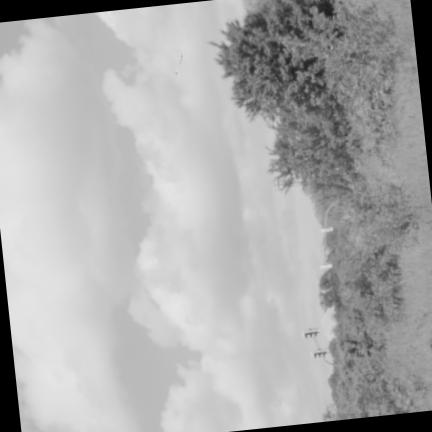Shahed: (174, 43, 183, 79)
